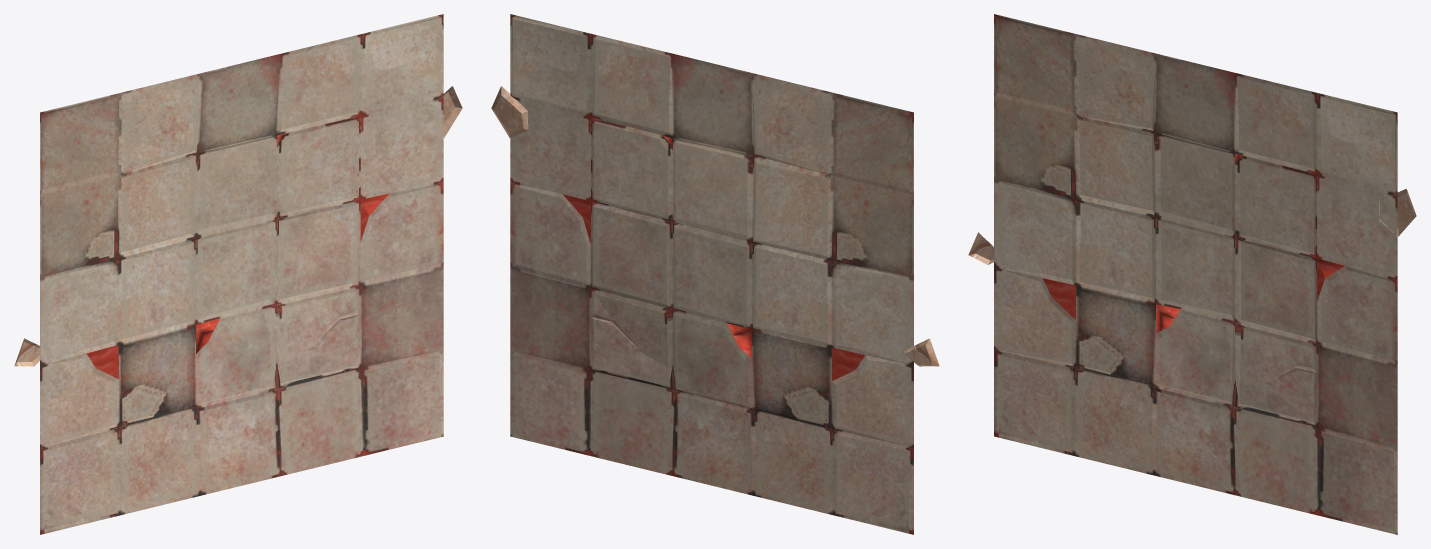
Rendered from HipDropRepairPartsTrace000.obj.
3 views of the same model, side by side, from view 1: azimuth 30°, elevation 25°; view 2: azimuth 150°, elevation 25°; view 3: azimuth 330°, elevation 25° (orthographic).
Visible parts, largest first — view 1: Floor157__FloorStoneBase02, pPlane65__GroundSandRed00_rep, Floor158__FloorStoneBase01; view 2: Floor157__FloorStoneBase02, Floor158__FloorStoneBase01, pPlane65__GroundSandRed00_rep; view 3: Floor157__FloorStoneBase02, pPlane65__GroundSandRed00_rep, Floor158__FloorStoneBase01.
Boxes of the visible parts, x1,y1,x2,y2 form: Floor157__FloorStoneBase02: (40, 14, 443, 534); pPlane65__GroundSandRed00_rep: (86, 132, 389, 378); Floor158__FloorStoneBase01: (14, 86, 462, 366); Floor157__FloorStoneBase02: (510, 14, 913, 534); Floor158__FloorStoneBase01: (491, 86, 939, 366); pPlane65__GroundSandRed00_rep: (563, 135, 864, 380); Floor157__FloorStoneBase02: (994, 14, 1397, 534); pPlane65__GroundSandRed00_rep: (1043, 153, 1344, 332); Floor158__FloorStoneBase01: (968, 189, 1416, 264).
Size of the model in its own units: 555 by 500 by 9.62.
4 materials, 3 textured.
